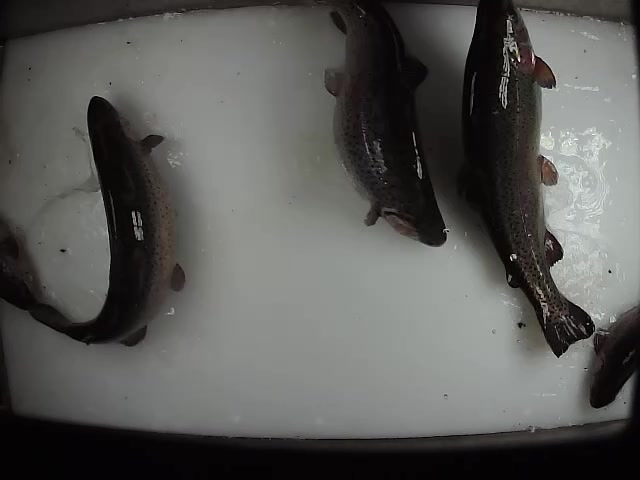fish: (454, 1, 595, 363), (30, 94, 187, 351), (322, 1, 450, 250)
